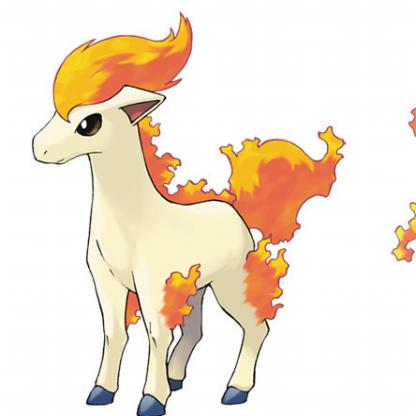Ponyta: (26, 20, 362, 416)
